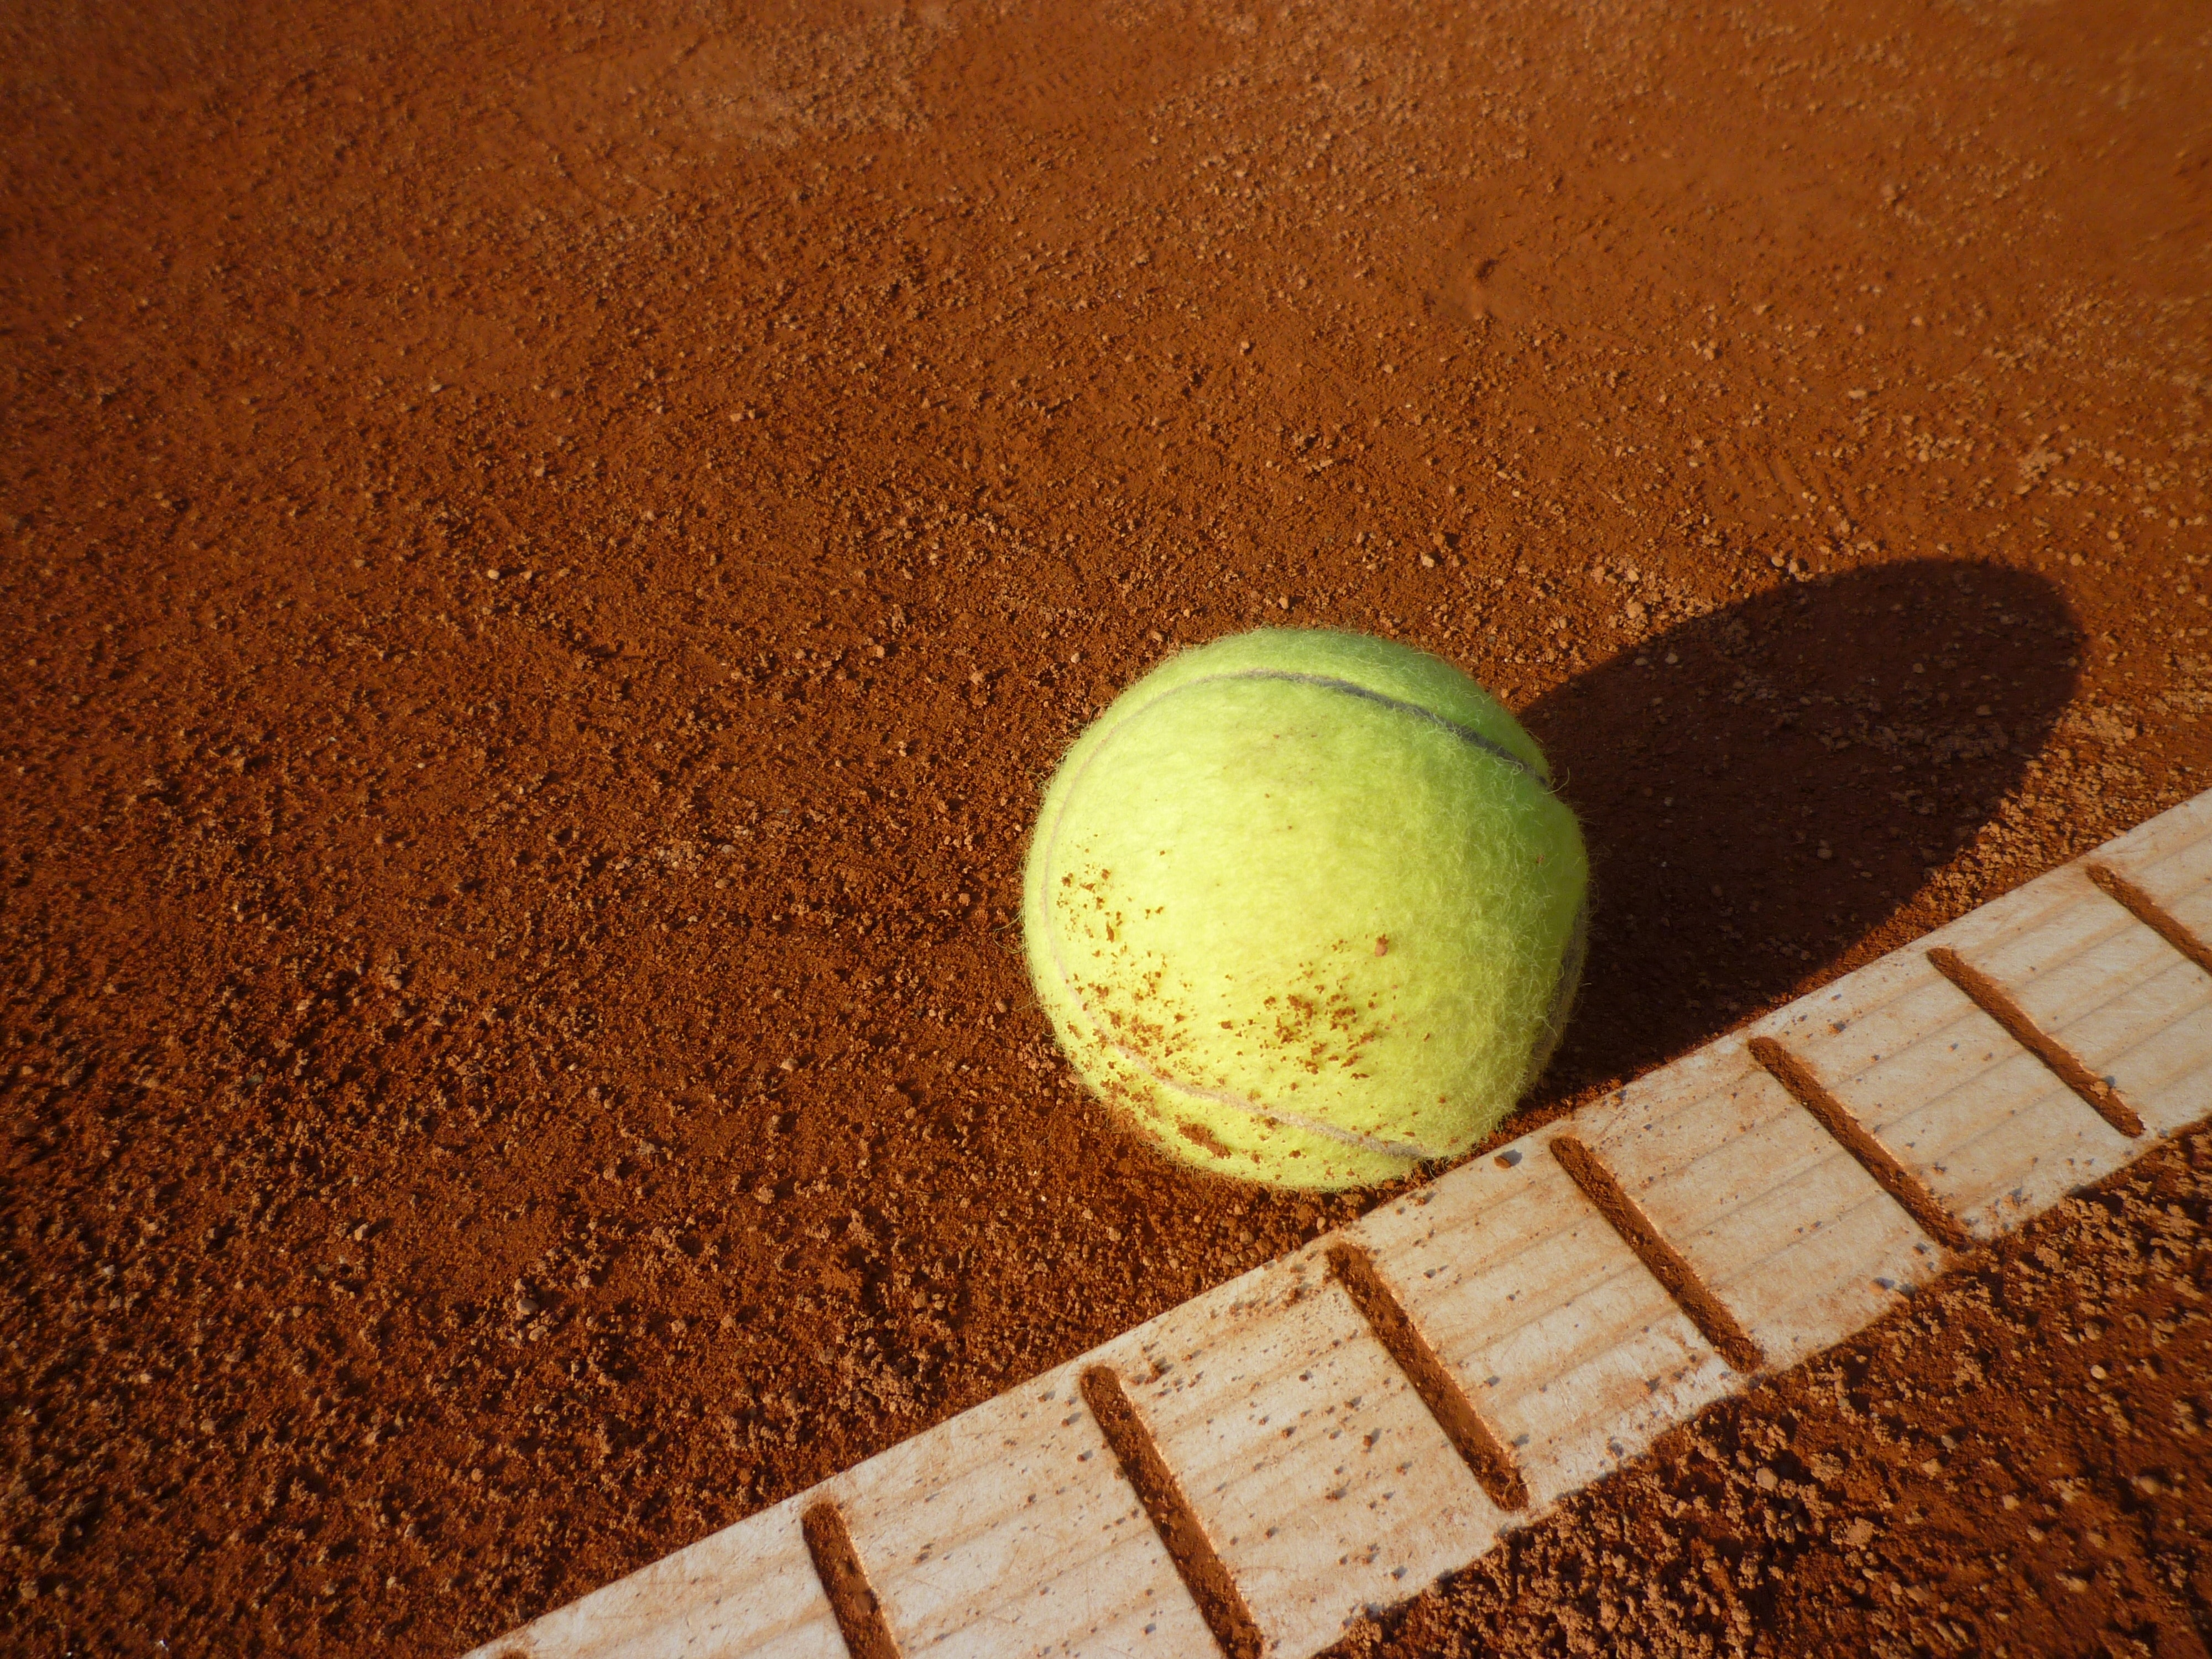aim: (1022, 626, 1590, 1194)
